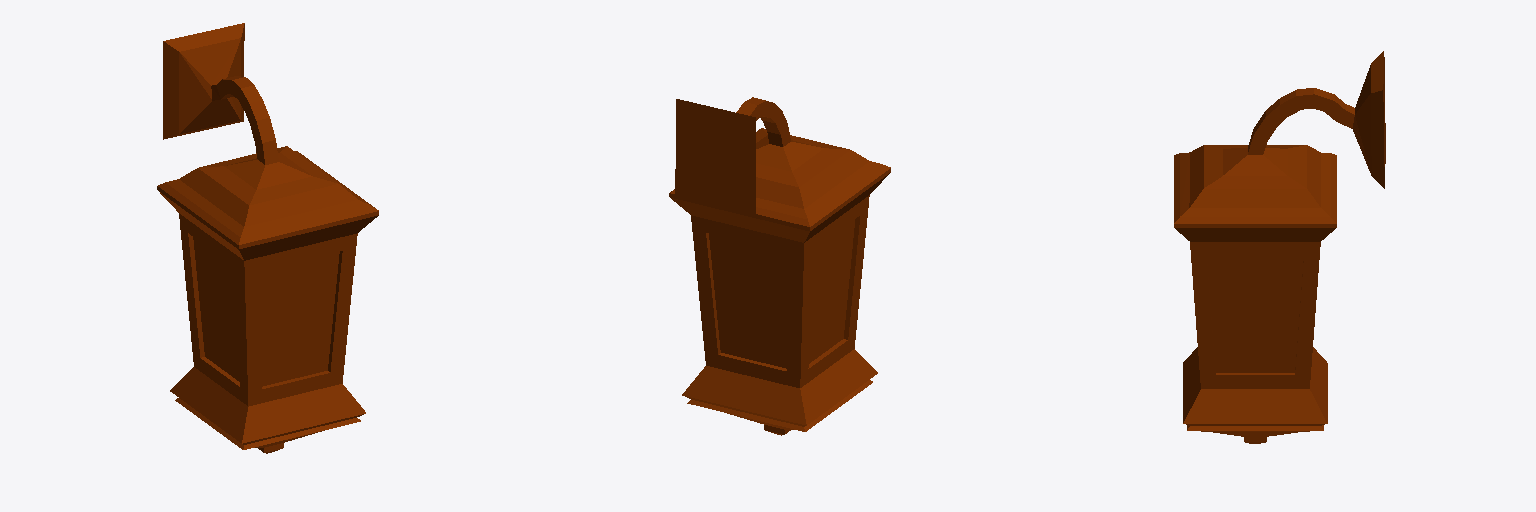
Rendered from rantan.obj.
The picture shows the model from 3 angles: view 1: azimuth 30°, elevation 25°; view 2: azimuth 150°, elevation 25°; view 3: azimuth 270°, elevation 25°; orthographic projection.
Parts seen in each view (by area): view 1: Box007; view 2: Box007; view 3: Box007.
Part boxes in pixels (left/top/right/bottom): Box007: left=157, top=23, right=378, bottom=453; Box007: left=669, top=97, right=890, bottom=435; Box007: left=1174, top=51, right=1385, bottom=443.
Bounding box in the file's own units: 24.06 × 60.93 × 31.34.